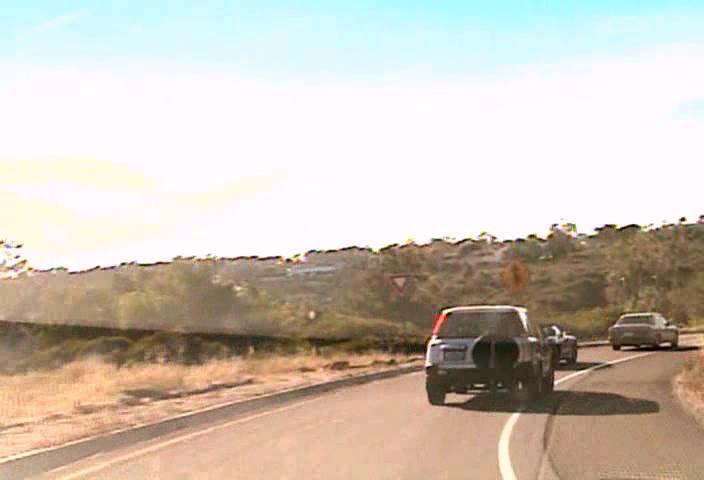yield: (387, 271, 412, 294)
